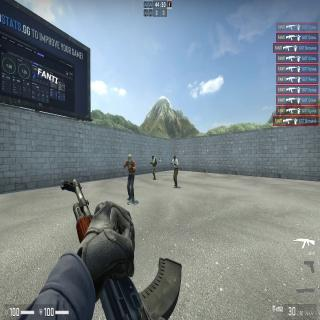CT-Body: (152, 154, 156, 180)
CT-Head: (152, 154, 154, 160)
T-Body: (125, 152, 135, 202), (172, 154, 179, 188)
T-Head: (127, 154, 131, 162), (173, 154, 176, 160)
